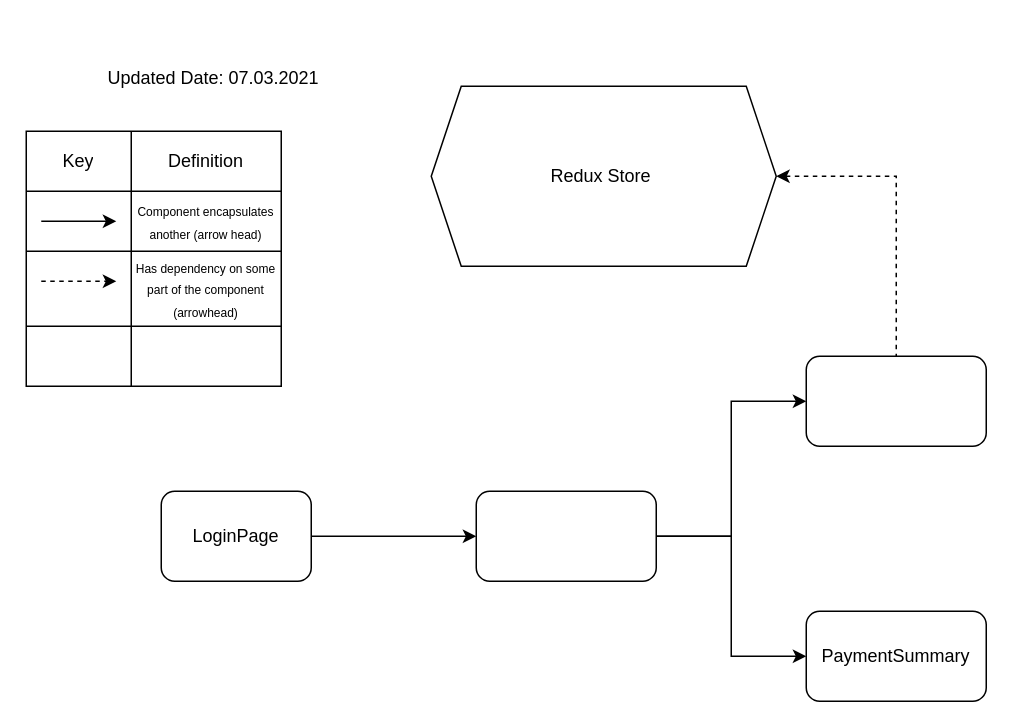
This 1013x728 diagram has some shape labels left out. Here are the shapes that lost their labels. From the top down, the box of each, then its label:
(805, 355, 986, 446): IncomeSubmission
(475, 490, 656, 581): Contribution
